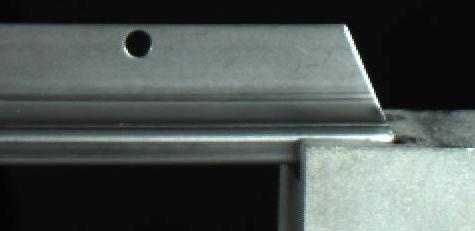cut: (230, 13, 405, 164)
holes: (120, 28, 155, 58)
